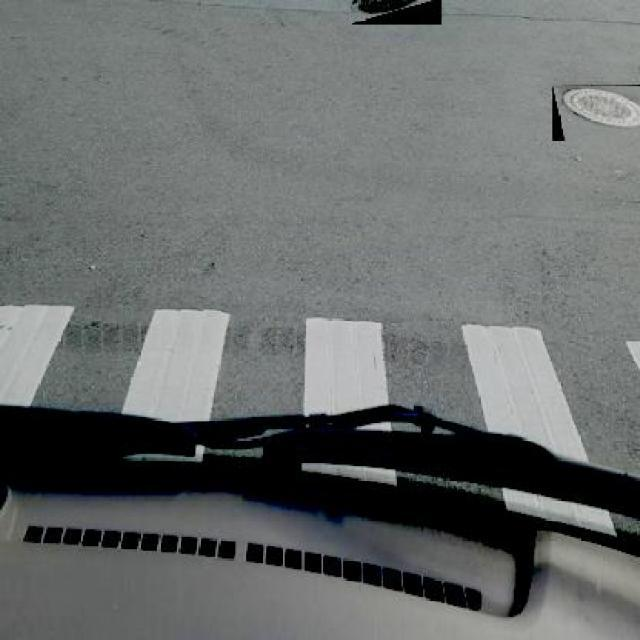Manhole: (552, 85, 640, 141), (353, 0, 442, 25)
